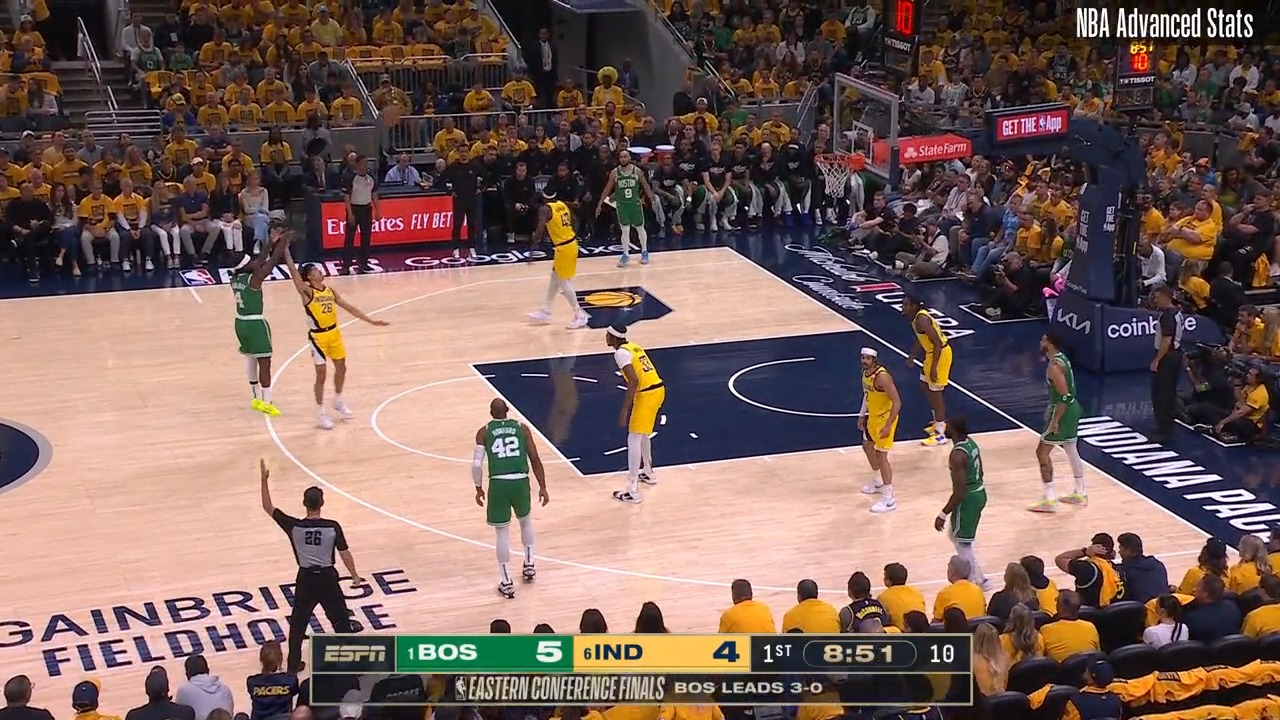basketball: (379, 100, 407, 129)
